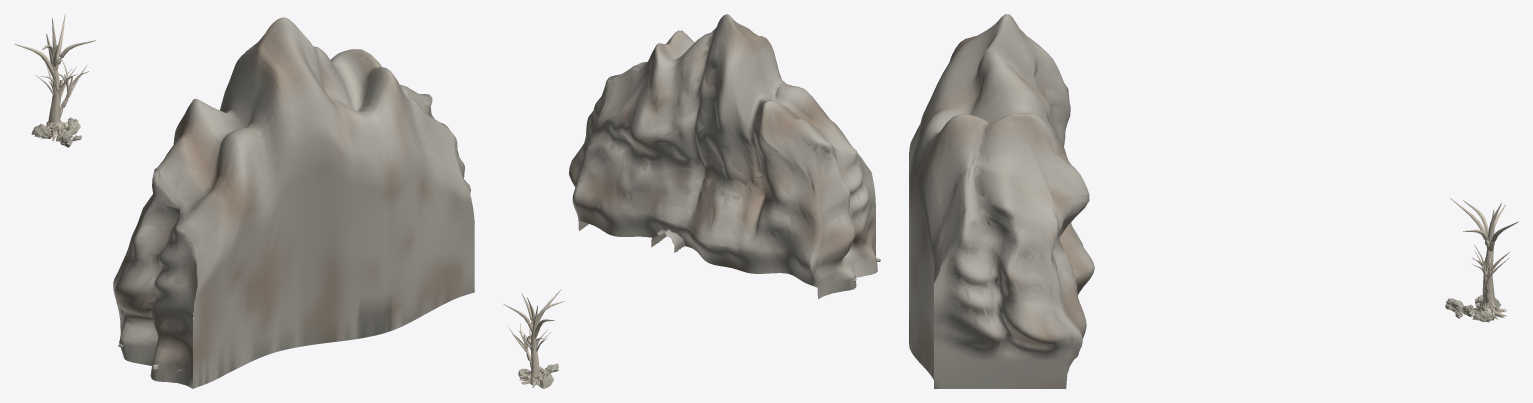
File: landmarks.glb
3 views of the same model, side by side, from view 1: azimuth 30°, elevation 25°; view 2: azimuth 150°, elevation 25°; view 3: azimuth 270°, elevation 25° (orthographic). The views are drawn at different scales.
Parts seen in each view (by area): view 1: southern-cliff-rock-near, southern-cliff-rock-far, ancient-fig-wood-near, ancient-fig-wood-far, moss-gates-rock-near; view 2: southern-cliff-rock-near, southern-cliff-rock-far, ancient-fig-wood-near, ancient-fig-wood-far; view 3: southern-cliff-rock-near, southern-cliff-rock-far, ancient-fig-wood-near, ancient-fig-wood-far.
Part boxes in pixels (x1,y1,x2,y2): southern-cliff-rock-near: [113, 17, 474, 388]; southern-cliff-rock-far: [113, 18, 474, 388]; ancient-fig-wood-near: [15, 14, 95, 140]; ancient-fig-wood-far: [15, 15, 95, 138]; moss-gates-rock-near: [32, 118, 81, 146]; southern-cliff-rock-near: [569, 14, 880, 296]; southern-cliff-rock-far: [570, 14, 877, 299]; ancient-fig-wood-near: [503, 289, 564, 388]; ancient-fig-wood-far: [504, 291, 563, 387]; southern-cliff-rock-near: [909, 14, 1094, 388]; southern-cliff-rock-far: [909, 14, 1093, 388]; ancient-fig-wood-near: [1450, 198, 1517, 319]; ancient-fig-wood-far: [1450, 198, 1518, 318].
Bounding box in the file's own units: 96.6 × 80.85 × 143.
